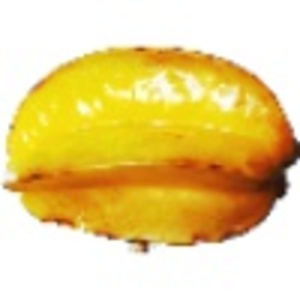carambola: (1, 44, 300, 257)
